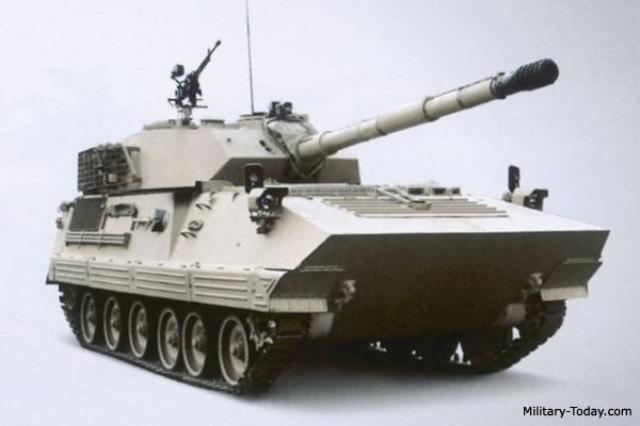tank: (40, 78, 606, 392)
